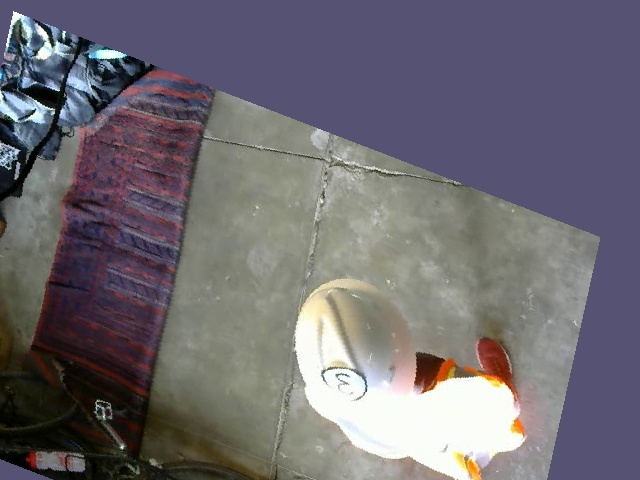three: (315, 357, 368, 406)
